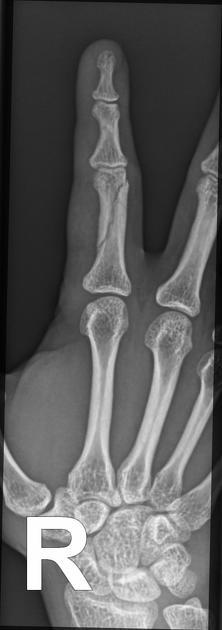fractured: (100, 176, 131, 254)
